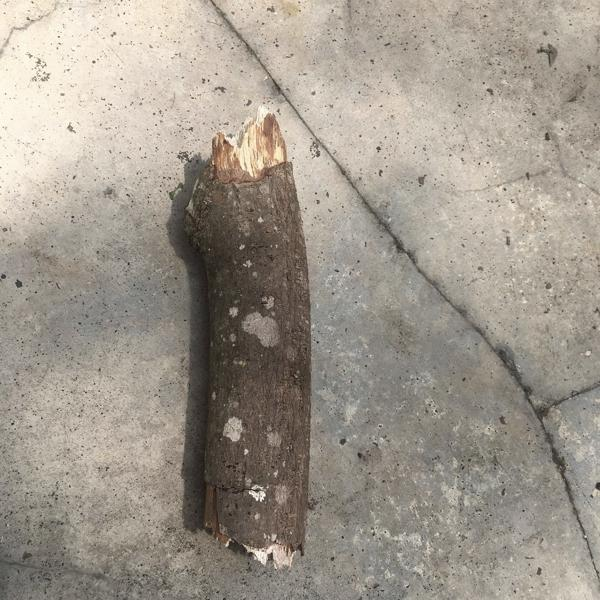Organik: (178, 103, 343, 567)
